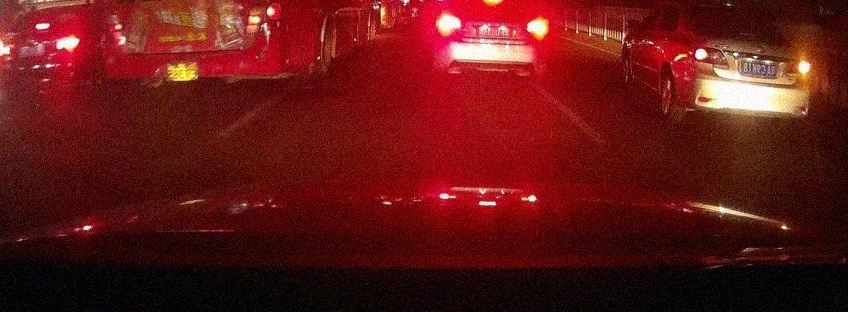L_light: (687, 46, 730, 70), (0, 40, 12, 58)
R_light: (783, 62, 811, 78), (56, 35, 80, 53)
T_light: (35, 23, 50, 30), (740, 32, 756, 37)
night-brake: (0, 3, 81, 86)
night-right: (683, 3, 811, 126)
